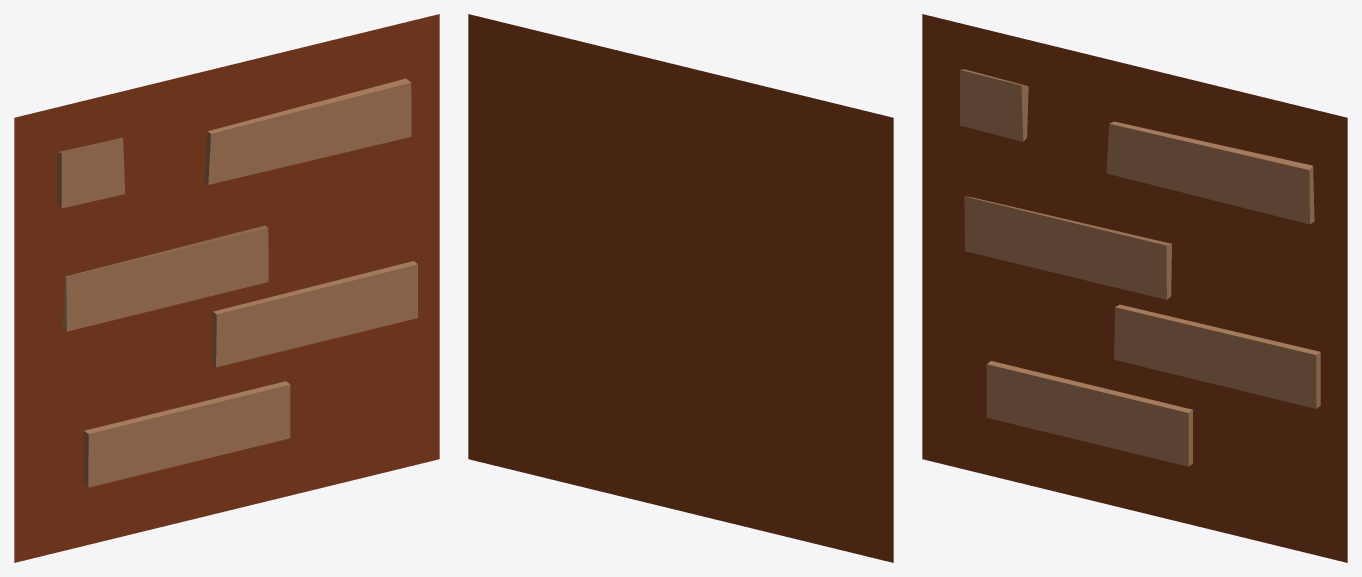
Rendered from Ext-BrickV2HalfWallSmall.fbx.
The picture shows the model from 3 angles, left to right: view 1: azimuth 30°, elevation 25°; view 2: azimuth 150°, elevation 25°; view 3: azimuth 330°, elevation 25°; orthographic projection.
Parts seen in each view (by area): view 1: Ext-BrickV2HalfWallSmall; view 2: Ext-BrickV2HalfWallSmall; view 3: Ext-BrickV2HalfWallSmall.
Part boxes in pixels (x1,y1,x2,y2): Ext-BrickV2HalfWallSmall: (14,14,439,562); Ext-BrickV2HalfWallSmall: (468,14,893,562); Ext-BrickV2HalfWallSmall: (922,14,1347,562).
Size of the model in its own units: 100 by 100 by 2.
